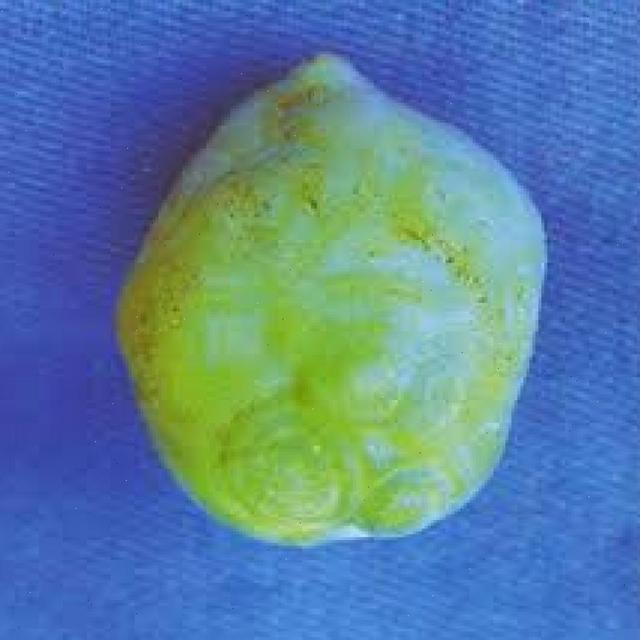Spotted wilt Virus Fruit: (148, 183, 486, 480)
